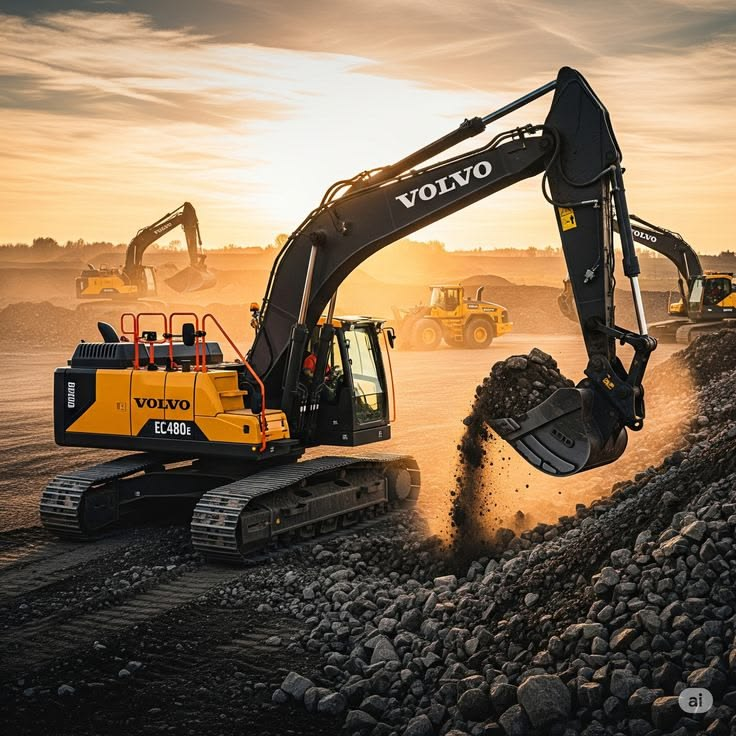excavator: (58, 124, 694, 596), (53, 196, 248, 312), (626, 196, 730, 358), (380, 264, 514, 358)
